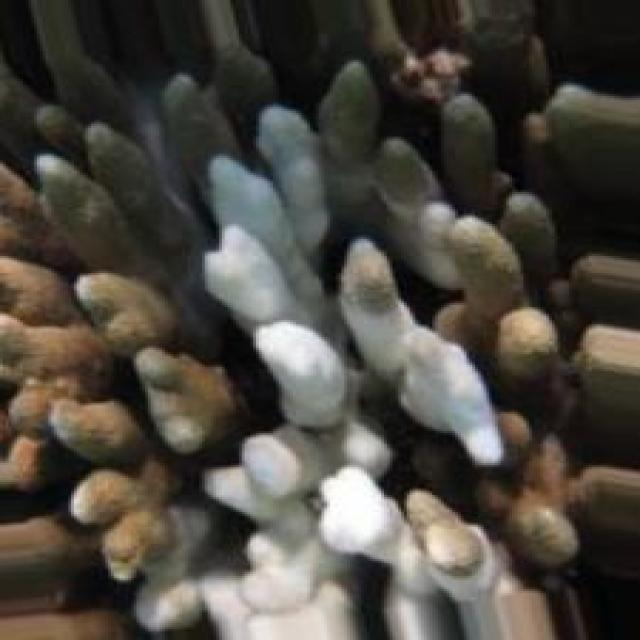Bleached: (190, 156, 539, 640), (341, 240, 504, 466)
